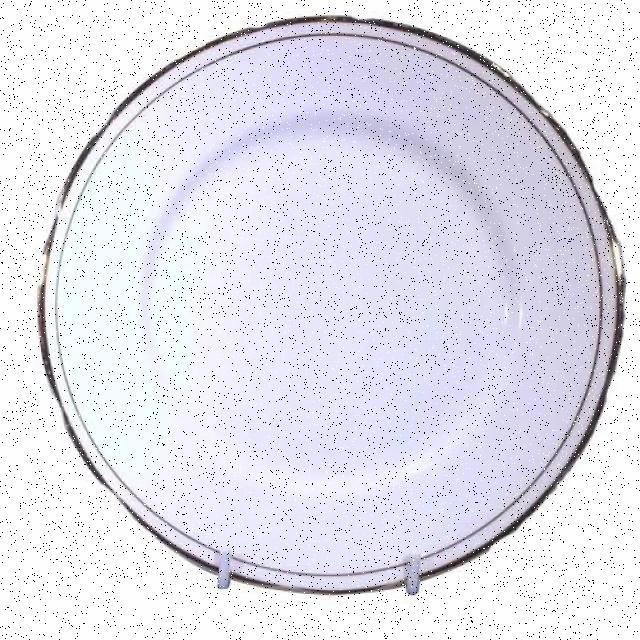plate: (20, 4, 630, 608)
